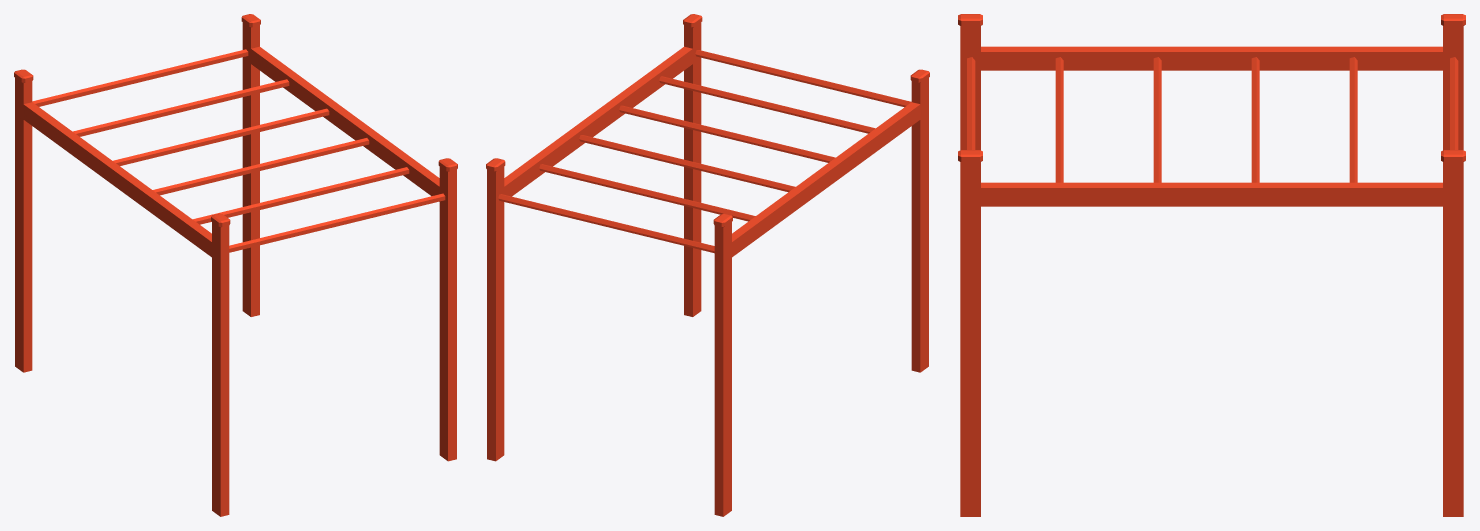
File: SM_Monkey_Bar_Gym_City.fbx
3 renders of one model, left to right at view 1: azimuth 30°, elevation 25°; view 2: azimuth 150°, elevation 25°; view 3: azimuth 270°, elevation 25°, orthographic. The views are drawn at different scales.
Parts seen in each view (by area): view 1: SM_Monkey_Bar_Gym_City; view 2: SM_Monkey_Bar_Gym_City; view 3: SM_Monkey_Bar_Gym_City.
Part boxes in pixels (left/top/right/bottom): SM_Monkey_Bar_Gym_City: left=14, top=14, right=457, bottom=516; SM_Monkey_Bar_Gym_City: left=486, top=14, right=929, bottom=516; SM_Monkey_Bar_Gym_City: left=958, top=14, right=1465, bottom=516.
Size of the model in its own units: 2.1 by 2.48 by 3.15.
